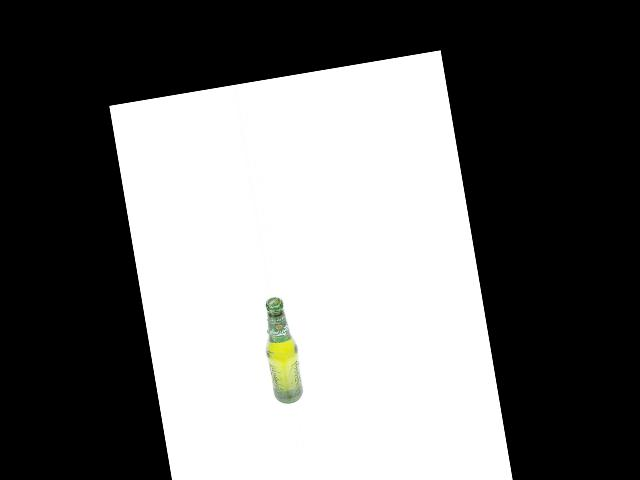beer: (256, 295, 305, 406)
